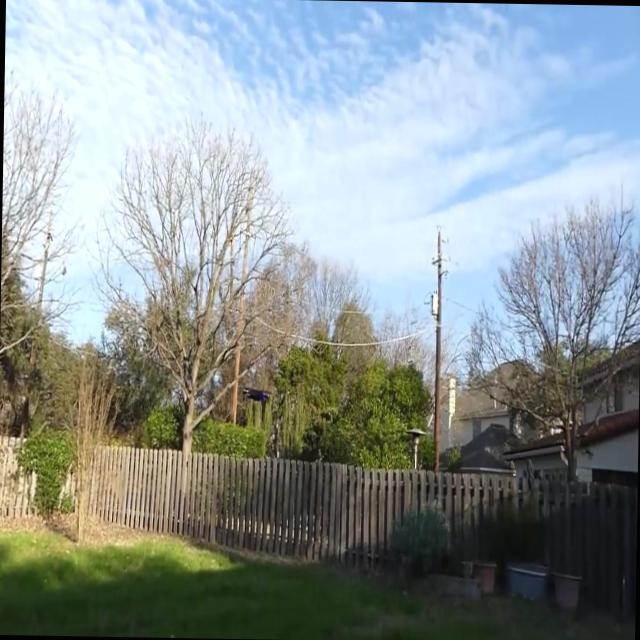drone: (240, 384, 274, 407)
